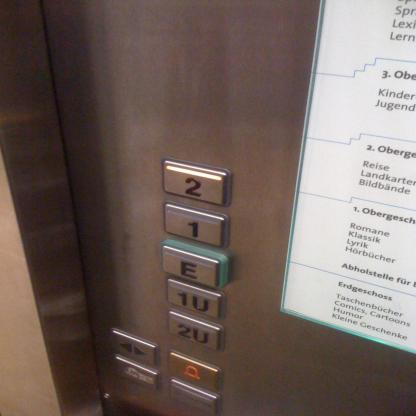1: (161, 200, 230, 248)
1U: (159, 277, 230, 323)
2: (162, 155, 232, 207)
2U: (162, 310, 226, 351)
E: (160, 240, 230, 291)
alarm: (164, 347, 224, 393)
open: (108, 326, 162, 369)
text_blur: (164, 375, 225, 416)
unknown: (108, 352, 161, 392)
